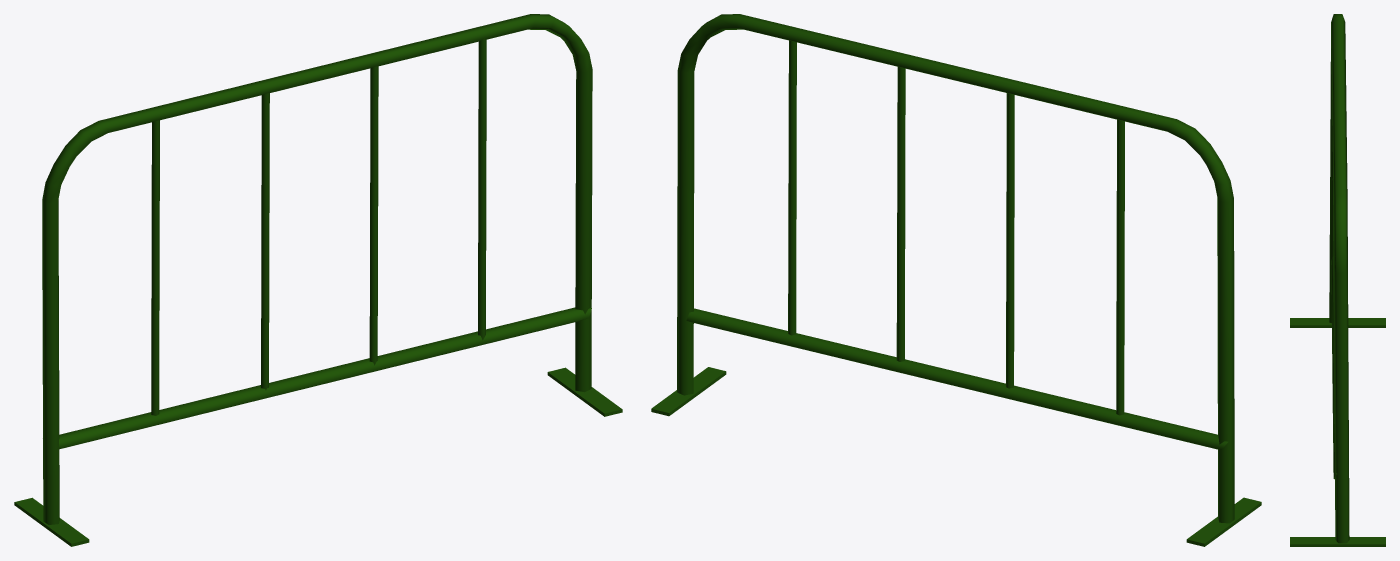
Rendered from Barrier01.fbx.
3 views of the same model, side by side, from view 1: azimuth 30°, elevation 25°; view 2: azimuth 150°, elevation 25°; view 3: azimuth 270°, elevation 25° (orthographic). The views are drawn at different scales.
Parts seen in each view (by area): view 1: Barrier01; view 2: Barrier01; view 3: Barrier01.
Boxes of the visible parts, box(x1,y1,x2,y2) form: Barrier01: box(14, 14, 622, 546); Barrier01: box(651, 14, 1261, 546); Barrier01: box(1290, 14, 1385, 546).
Size of the model in its own units: 0.473 by 0.3191 by 0.0846.
